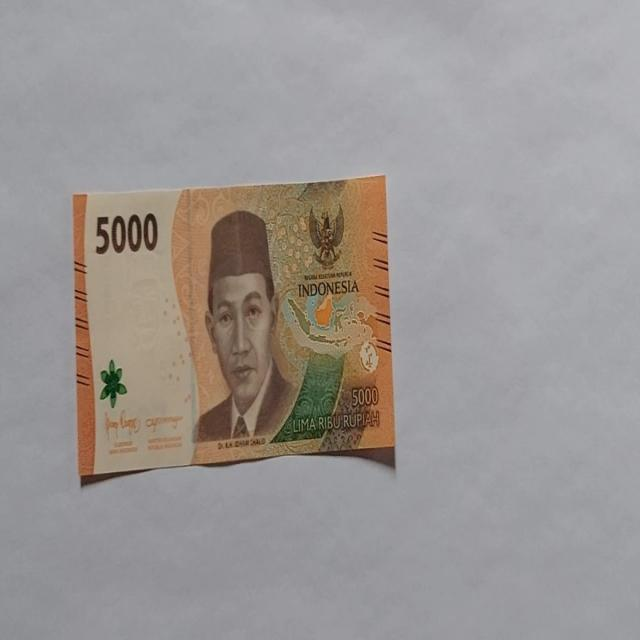lima ribu rupiah: (72, 175, 396, 484), (192, 208, 300, 446)
